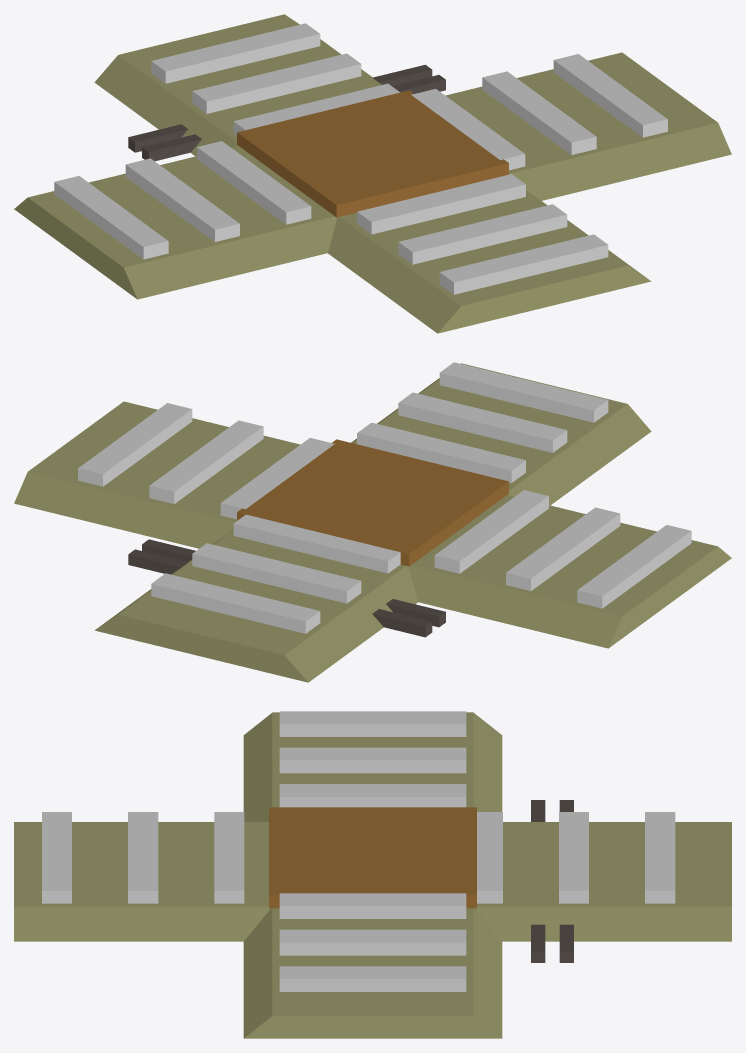
File: SM_Via_Cruce_v3_Obra_LOD1.fbx
The picture shows the model from 3 angles, top to bottom: view 1: azimuth 30°, elevation 25°; view 2: azimuth 150°, elevation 25°; view 3: azimuth 270°, elevation 25°; orthographic projection. The views are drawn at different scales.
Visible parts, largest first — view 1: SM_via_trazado_v43_LOD1; view 2: SM_via_trazado_v43_LOD1; view 3: SM_via_trazado_v43_LOD1.
Boxes of the visible parts, x1,y1,x2,y2 form: SM_via_trazado_v43_LOD1: [14, 14, 731, 333]; SM_via_trazado_v43_LOD1: [14, 362, 731, 682]; SM_via_trazado_v43_LOD1: [14, 711, 731, 1038].
Bounding box in the file's own units: 10 × 0.552 × 10.
